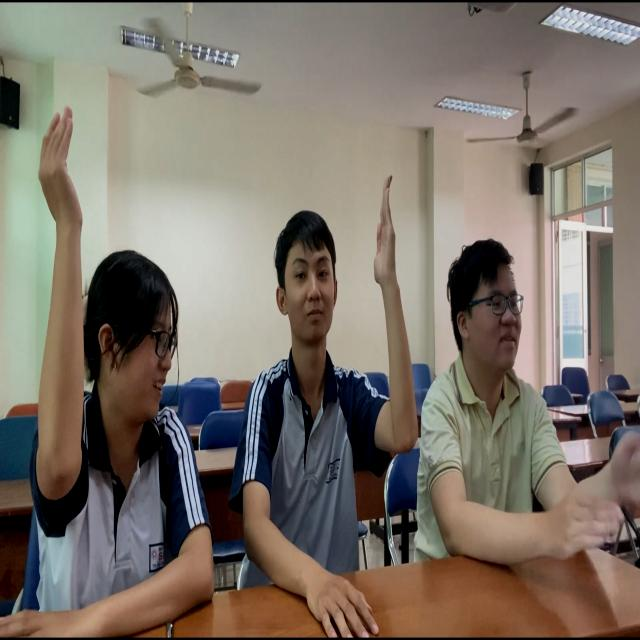raise_hand: (7, 80, 217, 640), (239, 169, 426, 640)
